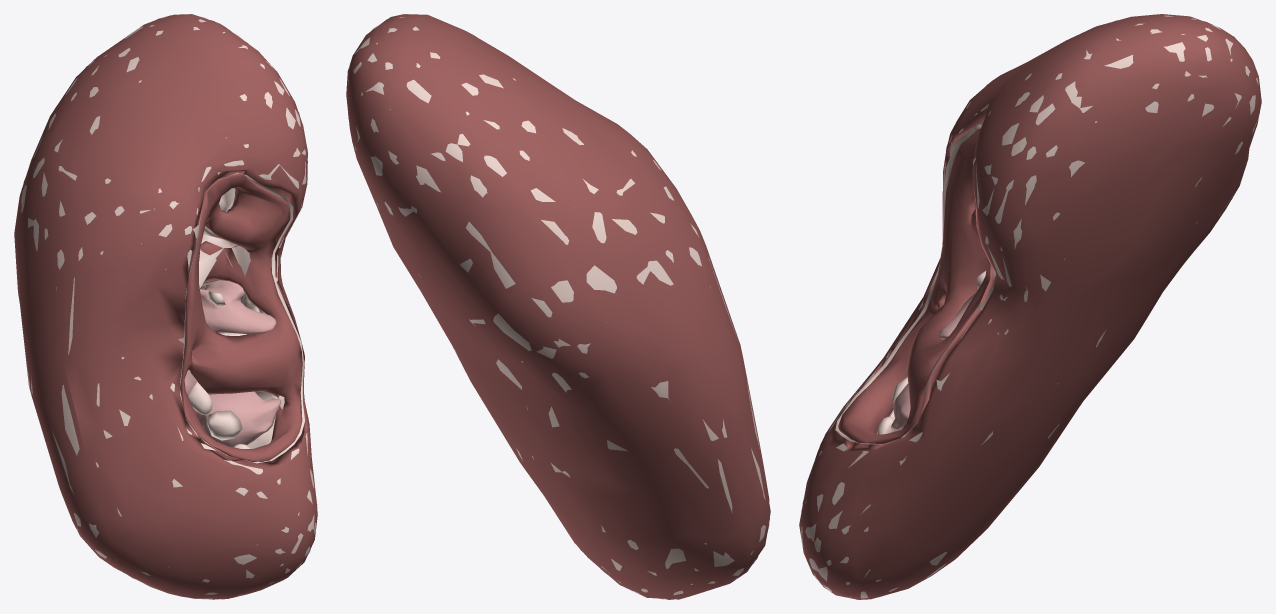
File: 3d-vh-m-kidney-r_lod_20.glb
The picture shows the model from 3 angles, left to right: view 1: azimuth 30°, elevation 25°; view 2: azimuth 150°, elevation 25°; view 3: azimuth 270°, elevation 25°; orthographic projection. The views are drawn at different scales.
Visible parts, largest first — view 1: VH_M_kidney_capsule_R, VH_M_hilum_of_kidney_R, VH_M_outer_cortex_of_kidney_R, VH_M_renal_pyramid_f, VH_M_renal_pyramid_h, VH_M_renal_column_R, VH_M_renal_papilla_R_h, VH_M_renal_papilla_R_g; view 2: VH_M_kidney_capsule_R, VH_M_outer_cortex_of_kidney_R; view 3: VH_M_kidney_capsule_R, VH_M_hilum_of_kidney_R, VH_M_outer_cortex_of_kidney_R, VH_M_renal_pyramid_h.
Part boxes in pixels (x1,y1,x2,y2): VH_M_kidney_capsule_R: (14, 14, 317, 599); VH_M_hilum_of_kidney_R: (180, 173, 302, 461); VH_M_outer_cortex_of_kidney_R: (21, 14, 317, 599); VH_M_renal_pyramid_f: (200, 280, 276, 334); VH_M_renal_pyramid_h: (197, 391, 280, 446); VH_M_renal_column_R: (199, 188, 278, 448); VH_M_renal_papilla_R_h: (207, 410, 242, 440); VH_M_renal_papilla_R_g: (188, 382, 212, 414); VH_M_kidney_capsule_R: (346, 14, 770, 599); VH_M_outer_cortex_of_kidney_R: (348, 14, 769, 599); VH_M_kidney_capsule_R: (799, 14, 1261, 599); VH_M_hilum_of_kidney_R: (838, 128, 990, 443); VH_M_outer_cortex_of_kidney_R: (801, 15, 1259, 598); VH_M_renal_pyramid_h: (891, 383, 910, 431).
Bounding box in the file's own units: 0.0656 × 0.1126 × 0.0766.
